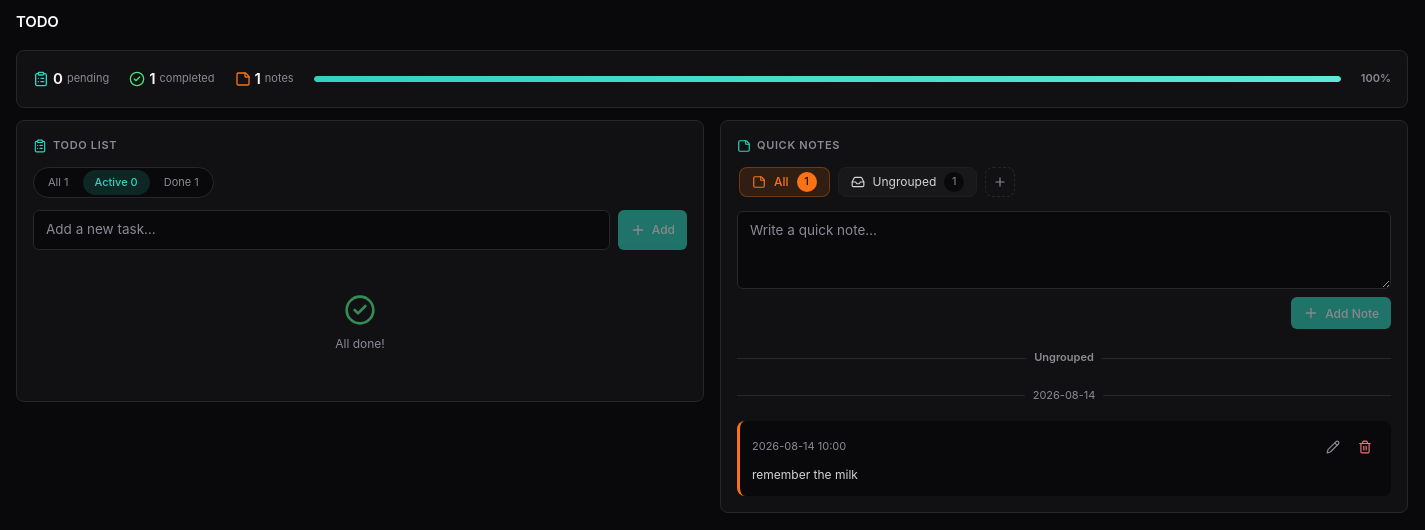
Test case: TodoPage › active filter empty shows celebration
Expected: the text "finished task" is not shown
Click the button "All 1" below "Todo List": (58, 182) [36, 170, 80, 195]
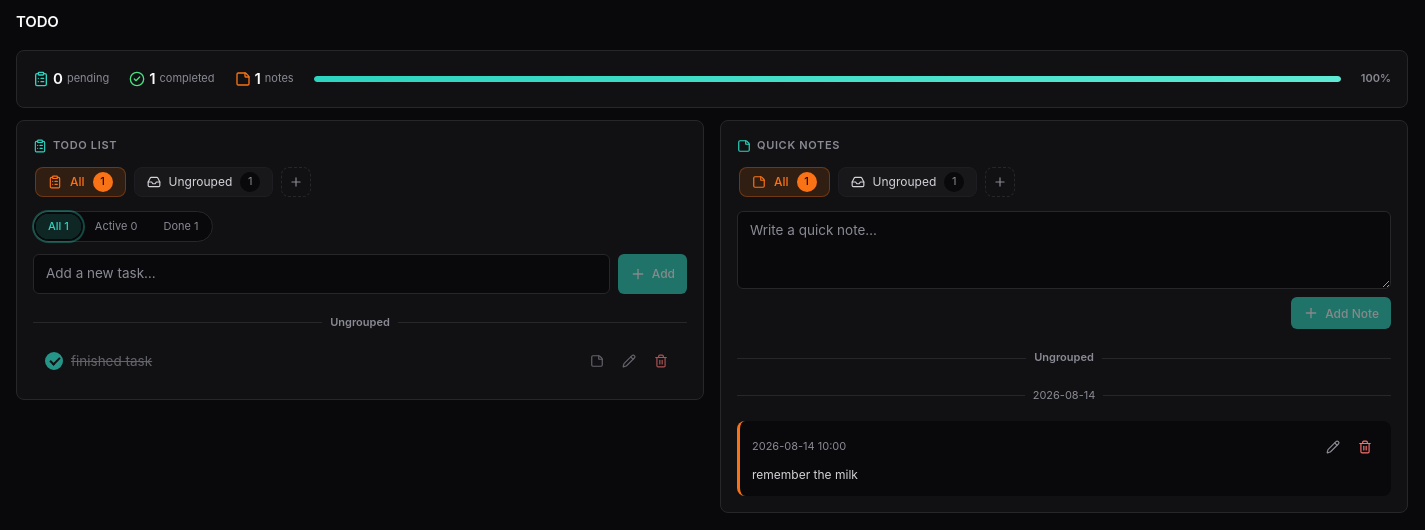
Result: the text "finished task" is shown at [71, 353, 152, 369]
Click the button "Active 0": (116, 226) [83, 214, 150, 239]
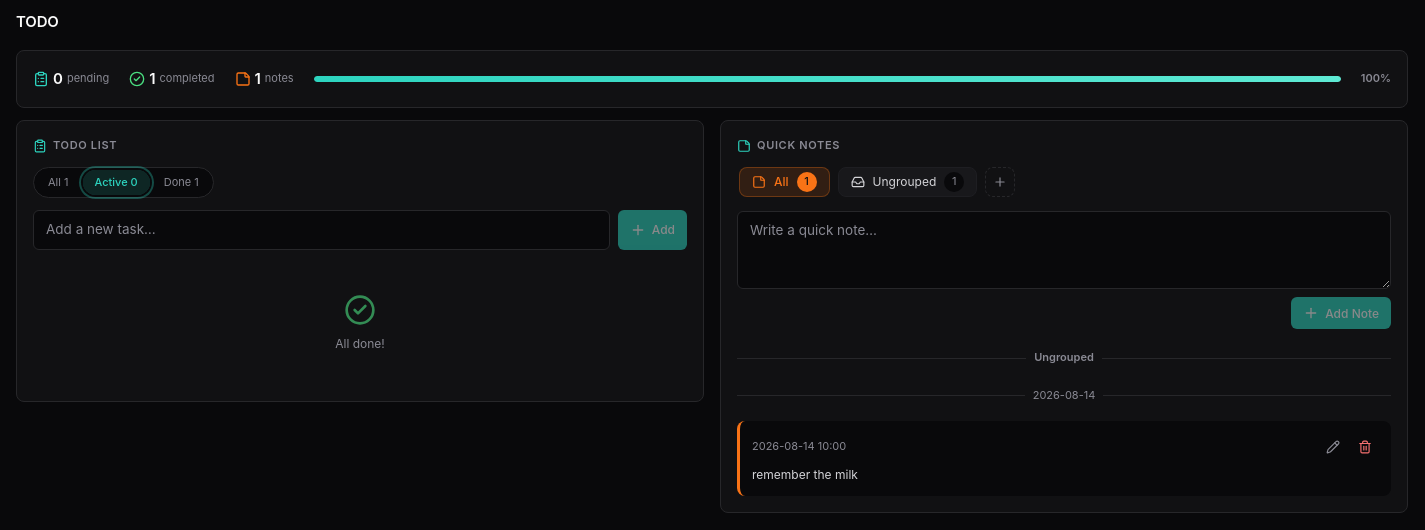
Result: the text "All done!" is shown at [335, 334, 385, 353]
Result: the text "finished task" is gone
